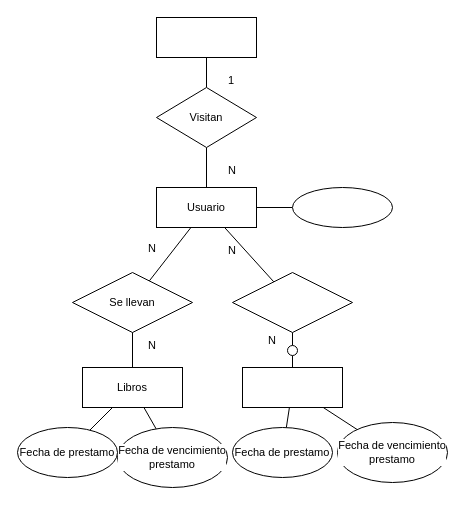
Some shapes in this 465 by 505 pixel diagram are drawn without their labels. Here are the shapes that lost their labels. From the top down, the centre of each, then its label:
At pixel 206 37: "Bibilioteca".
At pixel 342 207: "Cuenta con carnet".
At pixel 292 302: "Se retira en lectura".
At pixel 292 387: "Revistas".
